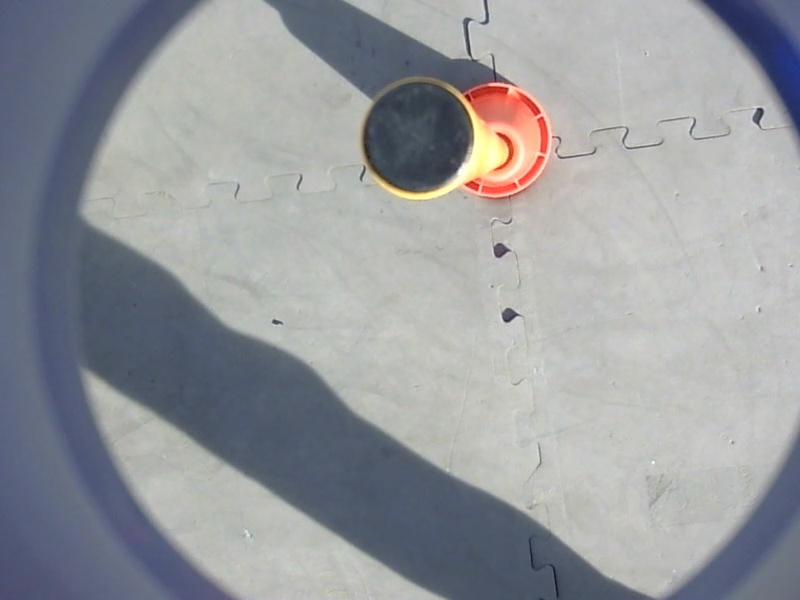tip: (353, 71, 482, 206)
